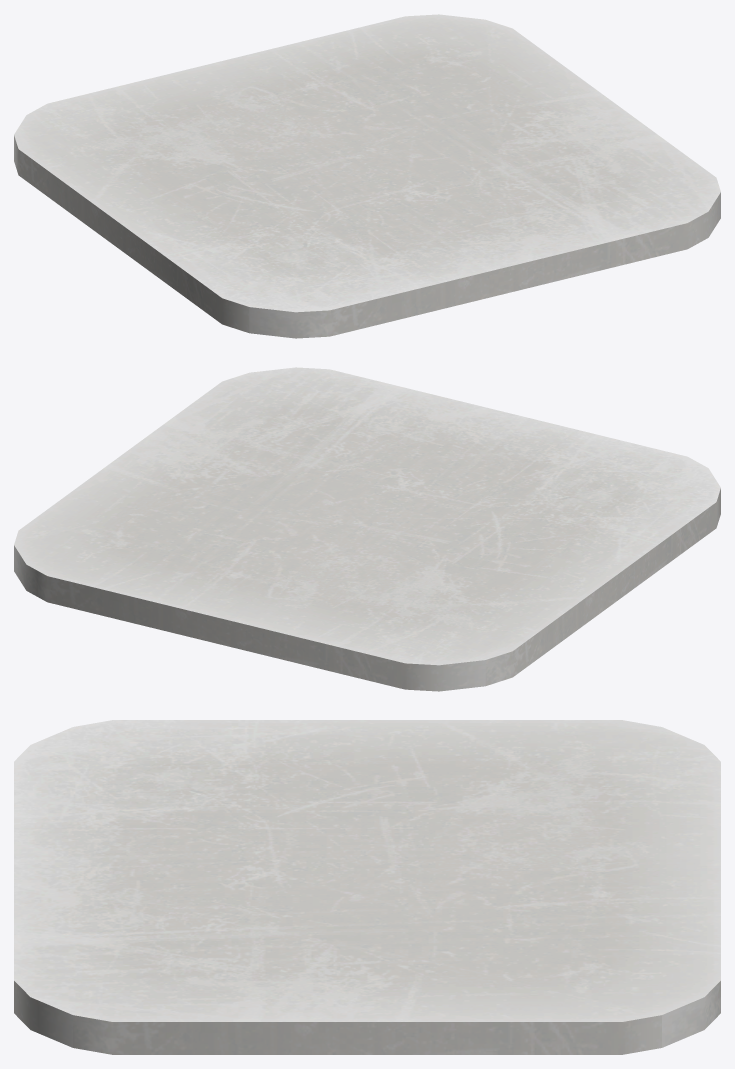
File: ChoppingBoard2.fbx
The picture shows the model from 3 angles, top to bottom: view 1: azimuth 30°, elevation 25°; view 2: azimuth 150°, elevation 25°; view 3: azimuth 270°, elevation 25°; orthographic projection. The views are drawn at different scales.
Parts seen in each view (by area): view 1: ChoppingBoard2; view 2: ChoppingBoard2; view 3: ChoppingBoard2.
Part boxes in pixels (x1=…): ChoppingBoard2: x1=14, y1=14, x2=720, y2=338; ChoppingBoard2: x1=14, y1=367, x2=720, y2=691; ChoppingBoard2: x1=14, y1=720, x2=720, y2=1054.
Size of the model in its own units: 0.7651 by 0.0388 by 0.7571.
Materials: 1 (1 with a texture image).
